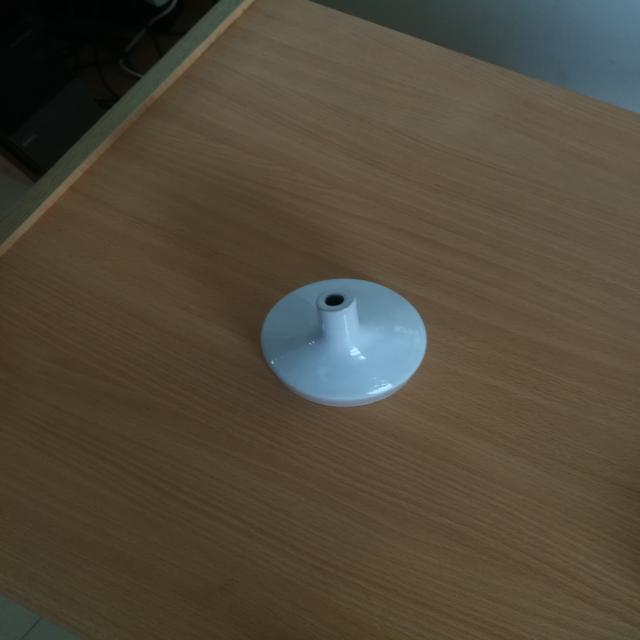Buchner_Funnel: (239, 250, 452, 432)
